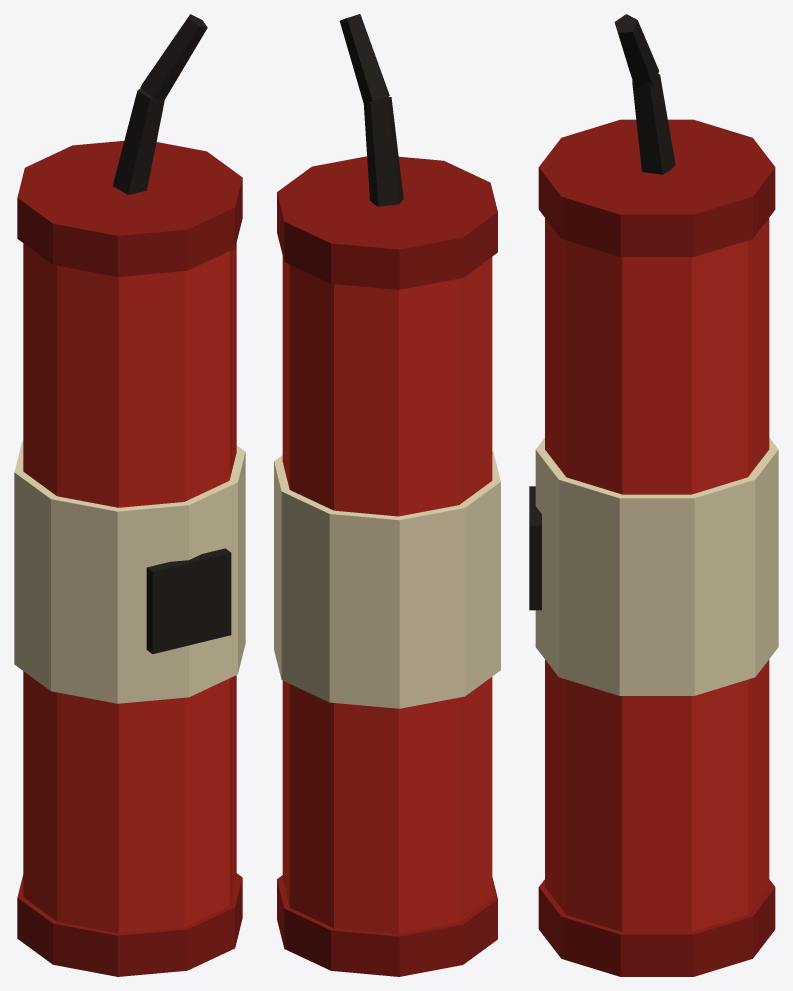
File: dinamite.glb
3 views of the same model, side by side, from view 1: azimuth 30°, elevation 25°; view 2: azimuth 150°, elevation 25°; view 3: azimuth 270°, elevation 25° (orthographic). The views are drawn at different scales.
Parts seen in each view (by area): view 1: dinamite2; view 2: dinamite2; view 3: dinamite2.
Part boxes in pixels (left/top/right/bottom): dinamite2: left=14, top=14, right=245, bottom=976; dinamite2: left=274, top=14, right=500, bottom=976; dinamite2: left=529, top=14, right=778, bottom=976.
Bounding box in the file's own units: 0.0742 × 0.332 × 0.08.
